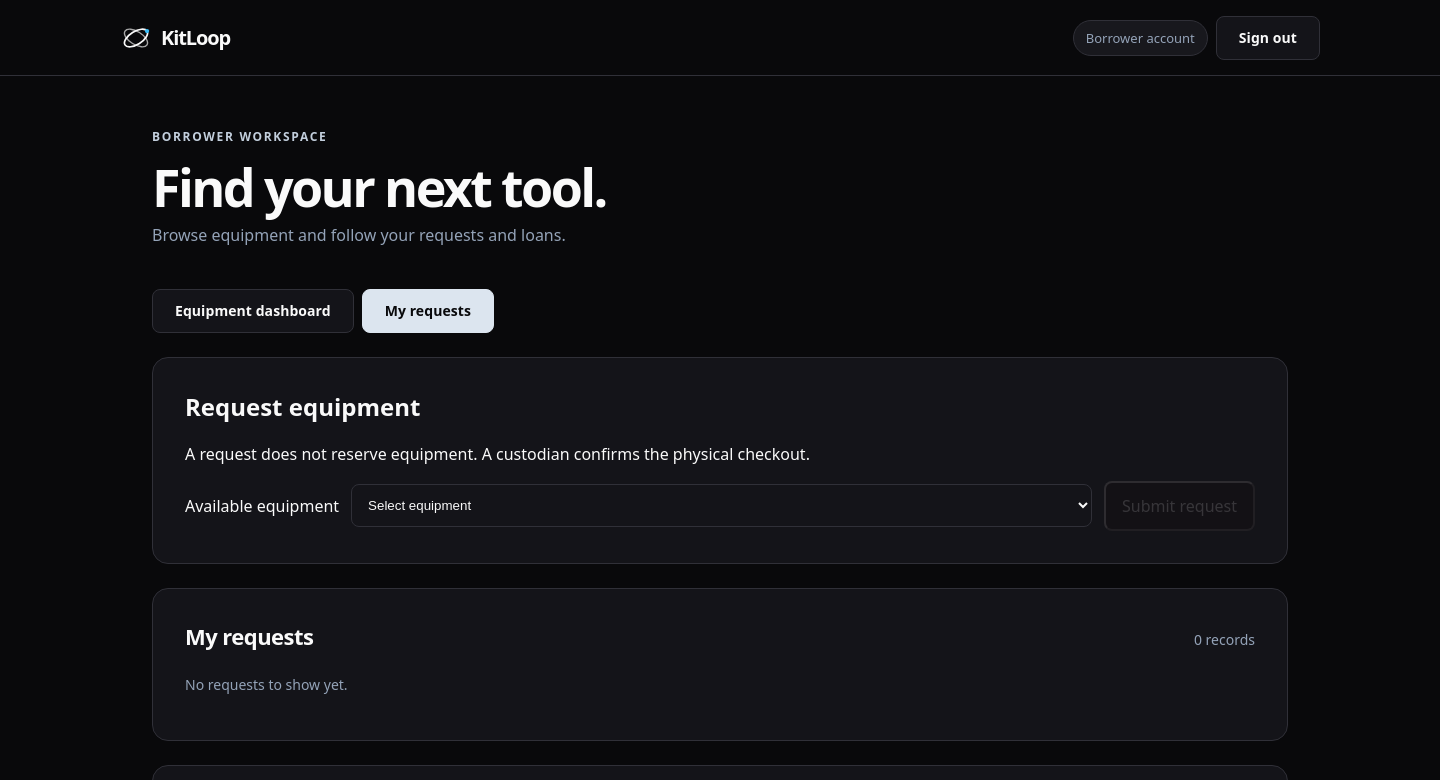
it: Borrower workflow integration in the React app (mocked HTTP) › refreshes stale history after a 409 without displaying success
Select "Camera · CAM-01" in the dropdown labelled "Available equipment" at (722,506), box x1=351 y1=484 x2=1092 y2=527
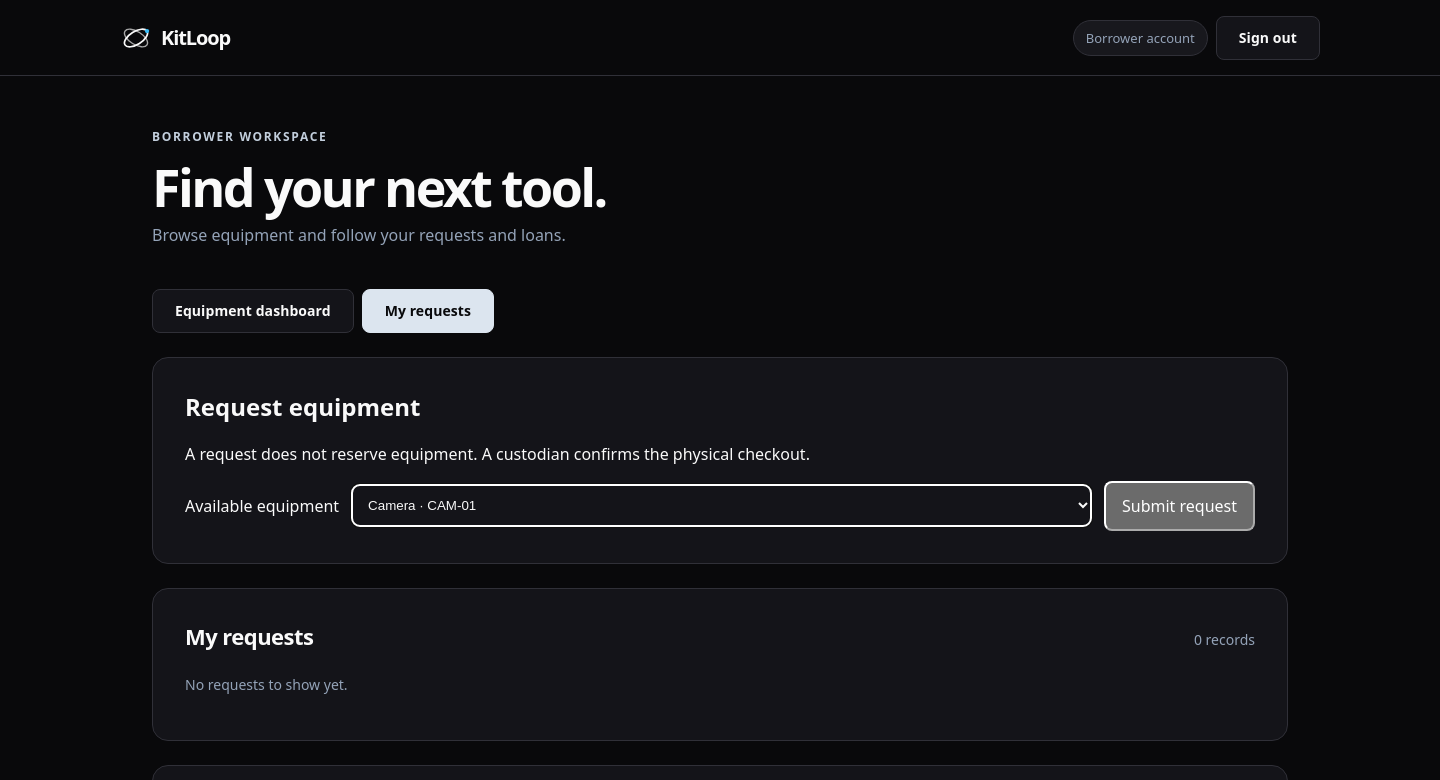
Click the button "Submit request".
click(1180, 506)  # box x1=1104 y1=481 x2=1255 y2=531
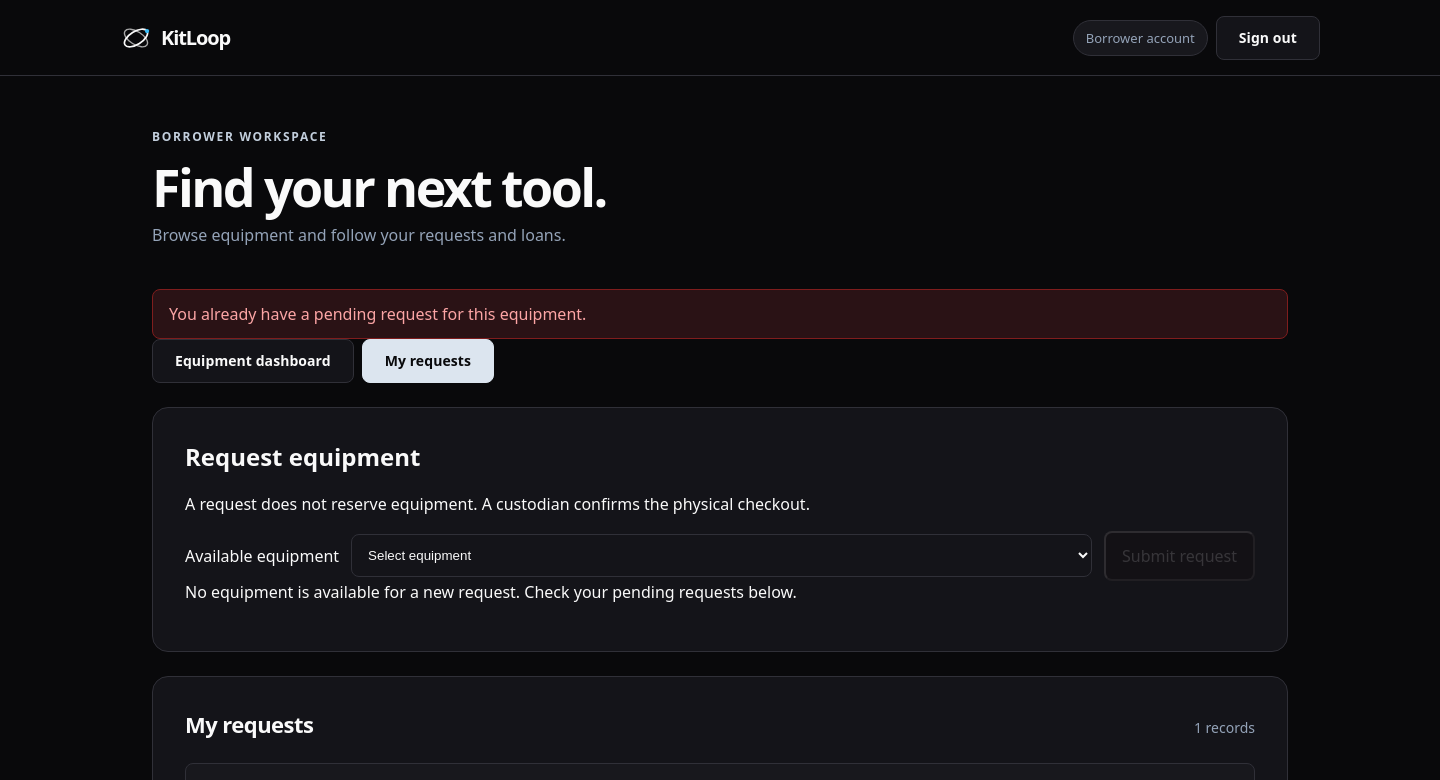
Expected: the message "You already have a pending request for this equipment." is shown, x1=152 y1=289 x2=1288 y2=339
